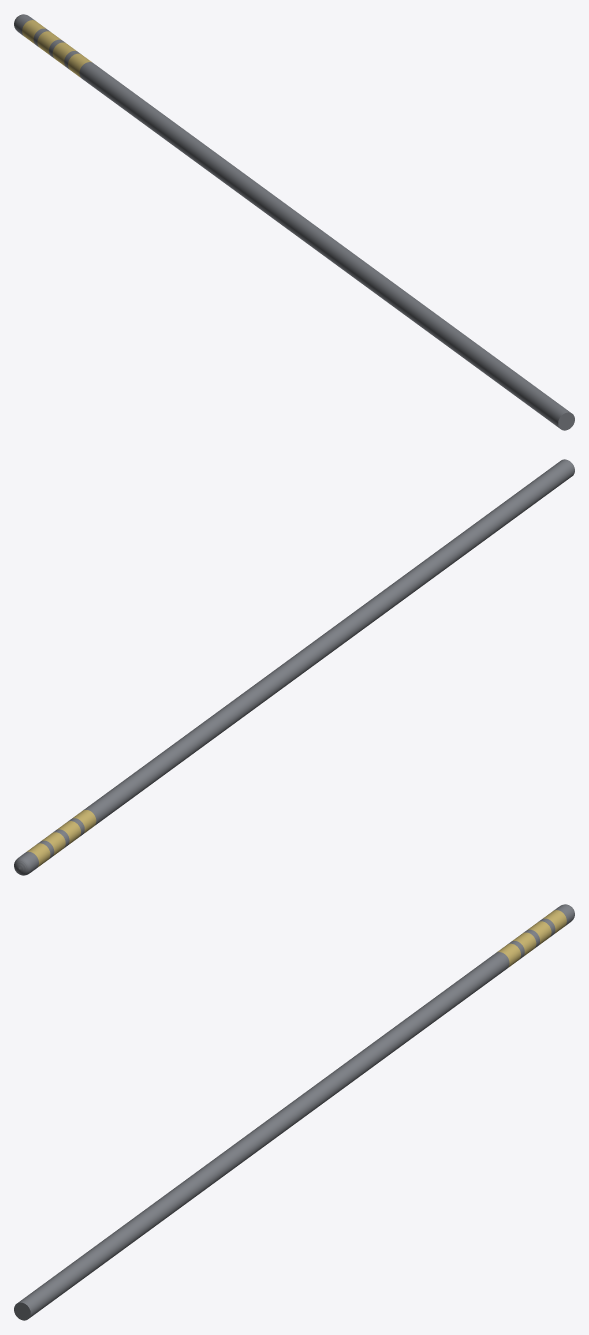
The model's file is medtronic_3389.glb.
The picture shows the model from 3 angles, top to bottom: view 1: azimuth 30°, elevation 25°; view 2: azimuth 150°, elevation 25°; view 3: azimuth 330°, elevation 25°; orthographic projection.
Parts seen in each view (by area): view 1: insulation, contacts; view 2: insulation, contacts; view 3: insulation, contacts.
Boxes of the visible parts, x1,y1,x2,y2 form: insulation: (14,14,574,430); contacts: (22,20,91,77); insulation: (14,459,574,875); contacts: (26,810,96,867); insulation: (14,904,574,1320); contacts: (497,910,566,967).
Size of the model in its own units: 1.27 by 1.27 by 71.62.
